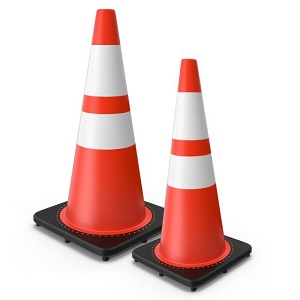traffic cone: (33, 9, 175, 256), (132, 59, 252, 287)
